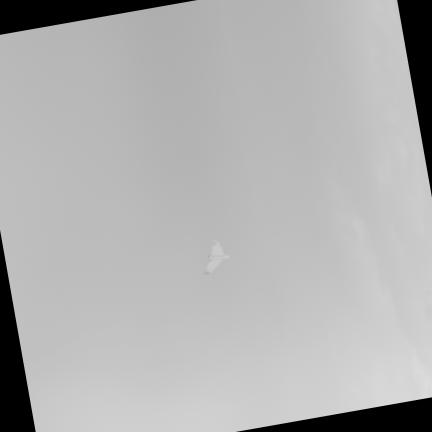Shahed: (204, 241, 228, 274)
